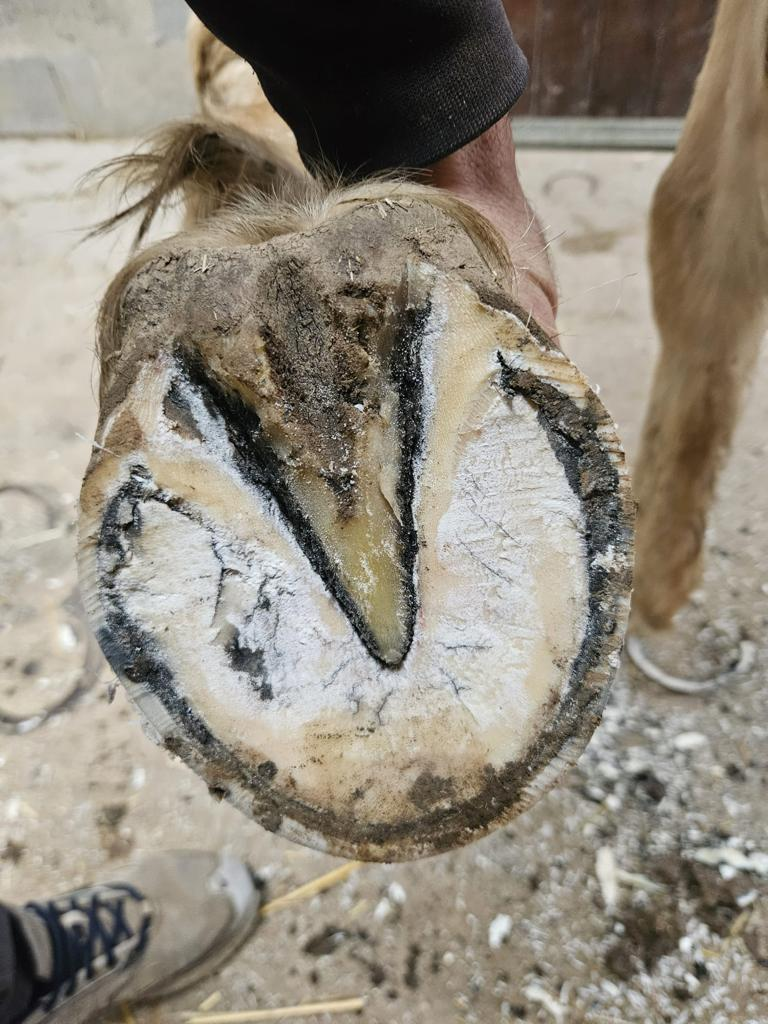horsesole: (78, 252, 638, 865)
